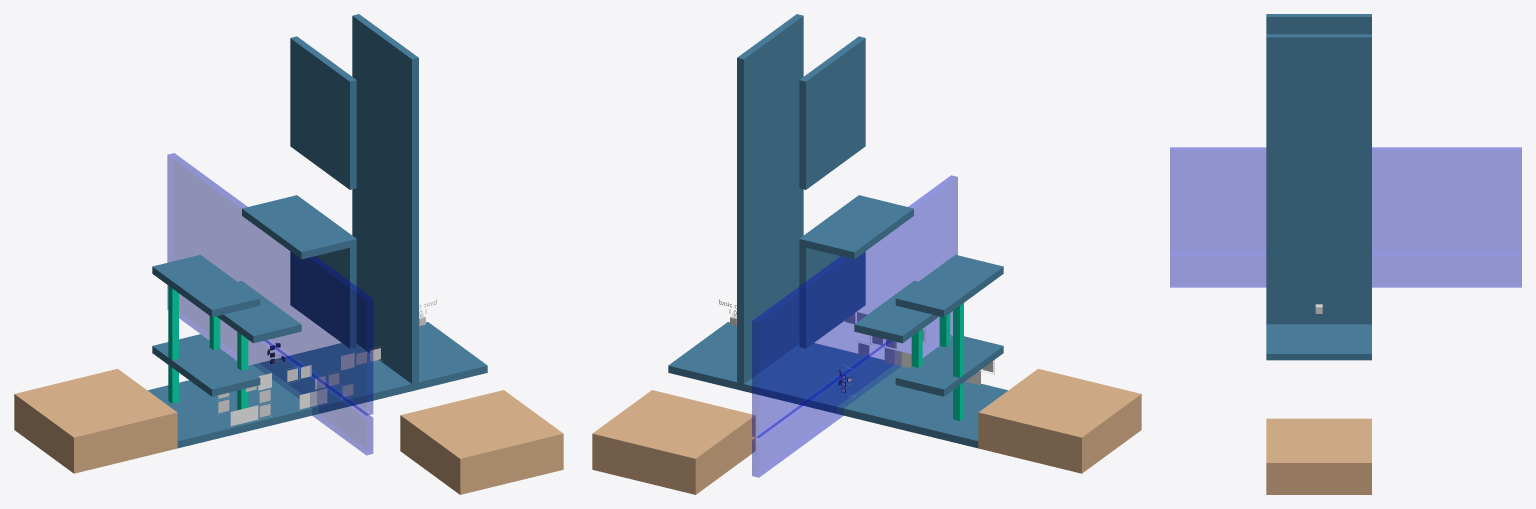
The model's file is base level teste v9.fbx.
3 renders of one model, left to right at view 1: azimuth 30°, elevation 25°; view 2: azimuth 150°, elevation 25°; view 3: azimuth 270°, elevation 25°, orthographic. The views are drawn at different scales.
Parts seen in each view (by area): view 1: gamepath.001, groundslab, groundslab.001, wallslim.003, wallslim.004, wallslim.001, wallslim, gamepath, wallslim.002, groundslim.002, groundslim.003, groundslim (+4 smaller); view 2: gamepath.001, groundslab, groundslab.001, wallslim.003, wallslim.004, wallslim.001, wallslim, gamepath, groundslim.002, wallslim.002, groundslim.003, groundslim (+4 smaller); view 3: gamepath.001, wallslim.004, wallslim, wallslim.001, gamepath, groundslab.001, groundslim.003, wallslim.003.
Part boxes in pixels (x1,y1,x2,y2): gamepath.001: (167, 153, 372, 415); groundslab: (14, 368, 177, 473); groundslab.001: (400, 390, 563, 494); wallslim.003: (290, 36, 356, 189); wallslim.004: (352, 14, 418, 167); wallslim.001: (352, 127, 418, 275); wallslim: (352, 232, 418, 383); gamepath: (167, 285, 372, 455); wallslim.002: (290, 195, 356, 348); groundslim.002: (248, 347, 384, 422); groundslim.003: (325, 322, 487, 397); groundslim: (148, 380, 280, 448); gamepath.001: (752, 175, 957, 437); groundslab: (978, 368, 1141, 473); groundslab.001: (592, 390, 755, 494); wallslim.003: (799, 36, 865, 189); wallslim.004: (737, 14, 803, 167); wallslim.001: (737, 127, 803, 275); wallslim: (737, 232, 803, 383); gamepath: (752, 311, 952, 477); groundslim.002: (771, 347, 911, 422); wallslim.002: (799, 195, 865, 348); groundslim.003: (668, 322, 830, 397); groundslim: (875, 381, 1007, 448); gamepath.001: (1170, 147, 1521, 252); wallslim.004: (1266, 34, 1371, 132); wallslim: (1266, 228, 1371, 324); wallslim.001: (1266, 133, 1371, 228); gamepath: (1170, 253, 1521, 287); groundslab.001: (1266, 418, 1371, 494); groundslim.003: (1266, 324, 1371, 360); wallslim.003: (1266, 14, 1371, 34).
Size of the model in its own units: 7100 by 6200 by 5000.
10 materials, 1 textured.
